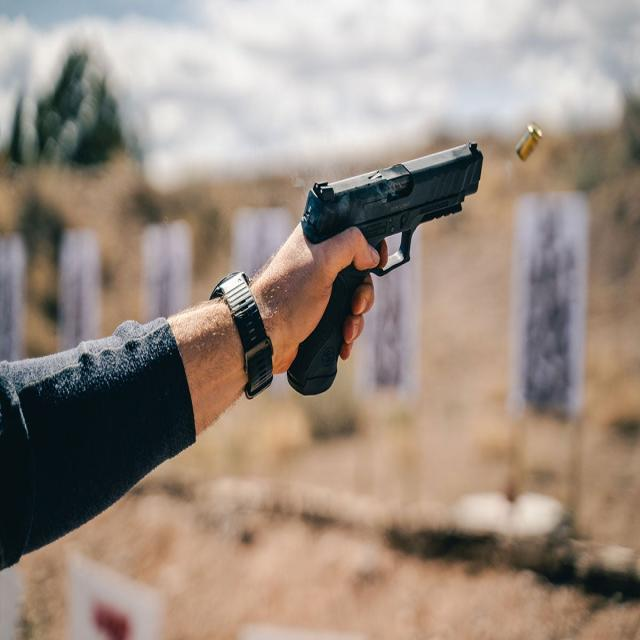HandGun: (287, 142, 483, 397)
